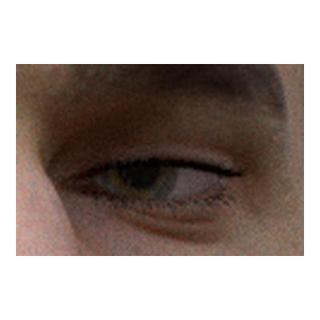pupil: (119, 150, 158, 188)
